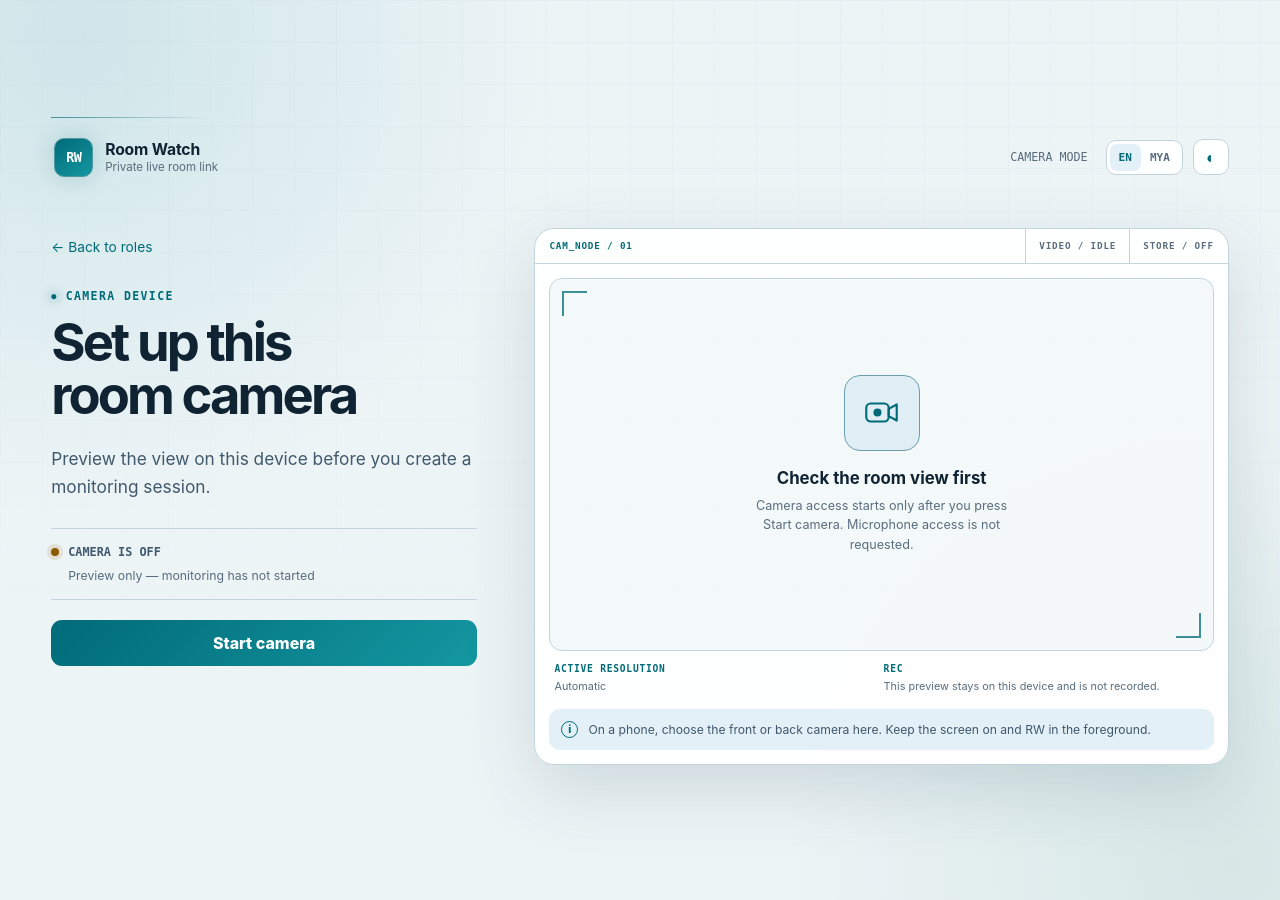
Scenario: T05 camera preview › shows an understandable recovery message when permission is denied
The image size is (1280, 900).
Click the button "Start camera". click: [264, 643]
box: [51,620,477,666]
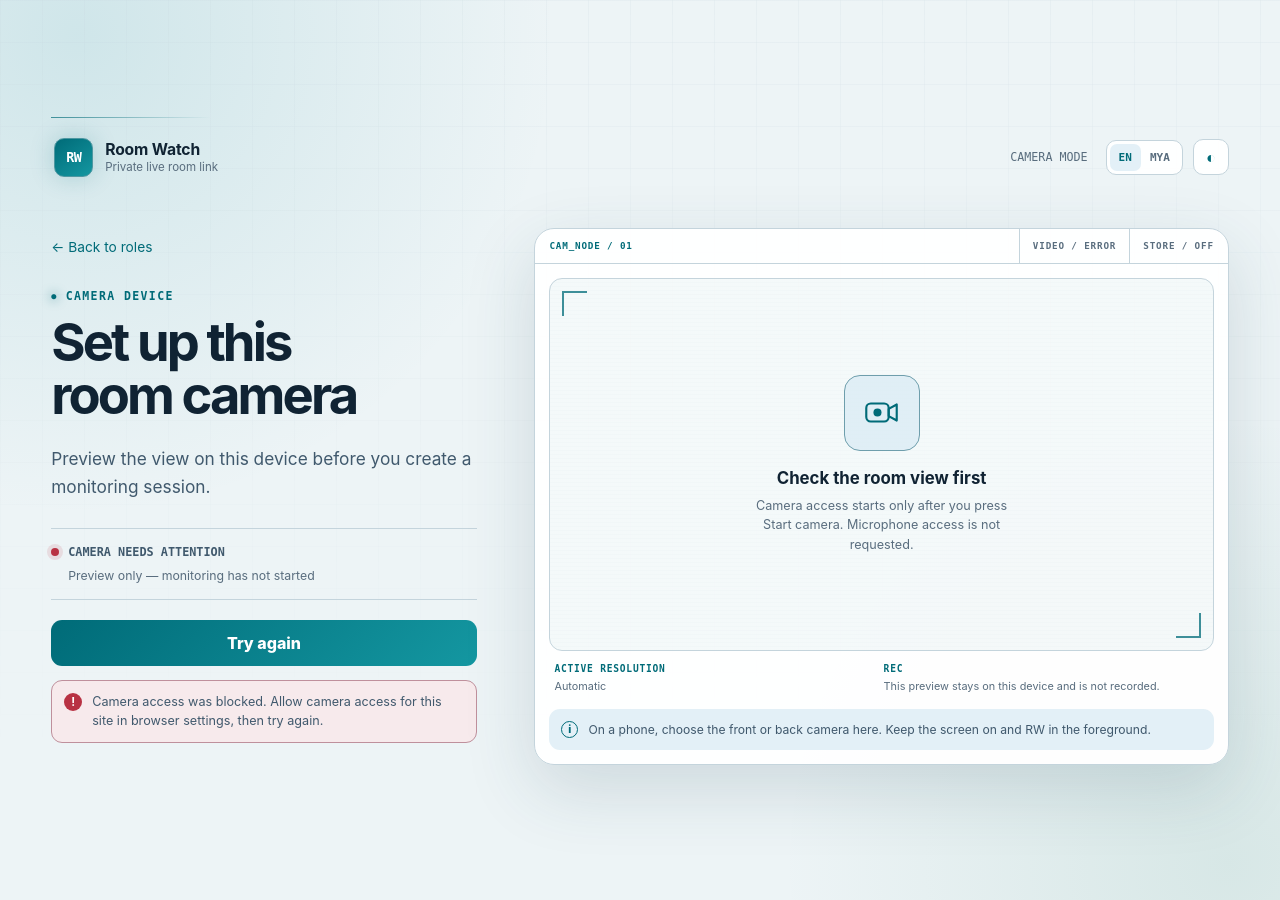
Check: the message shows "Camera access was blocked.", box [92,694,442,728]
Check: the message shows "browser settings", box [92,694,442,728]
Check: the button "Try again" is shown, box [51,620,477,666]
